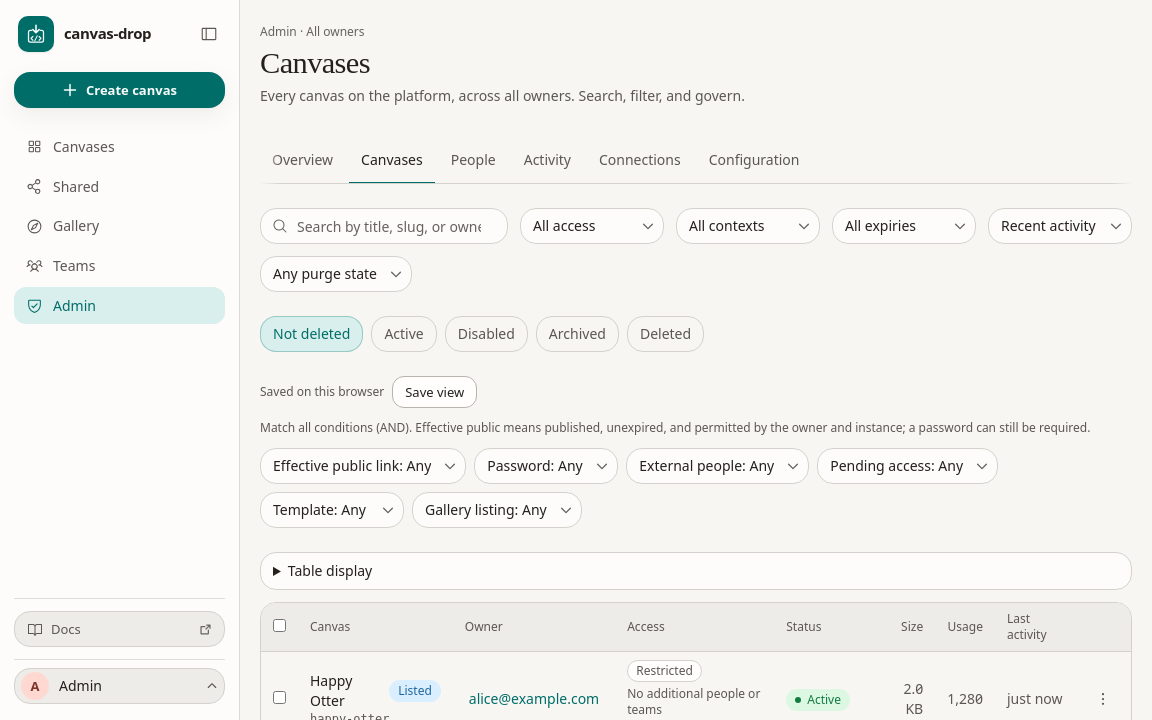
Test: admin dashboard › keeps archive results separate from refreshed eligibility (excluded selection: false)
Click the checkbox named "Select Happy Otter". click: (280, 698)
box: [273, 691, 286, 704]
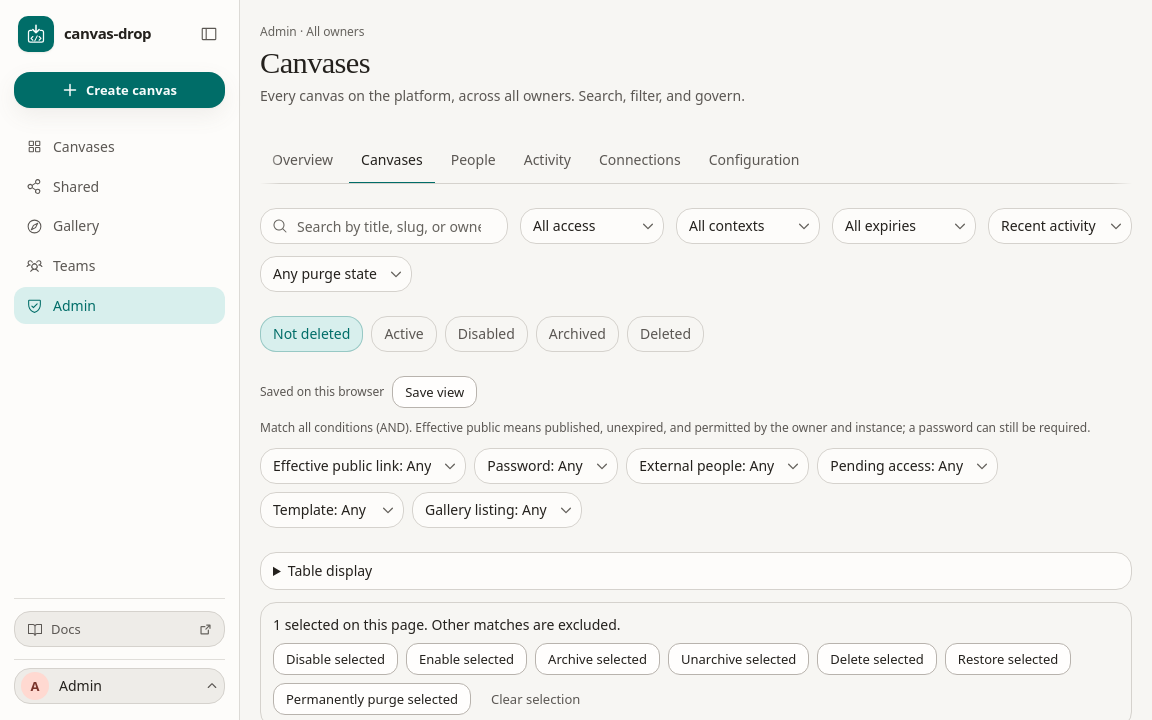
Click the button "Archive selected". click: (598, 659)
box: [535, 643, 660, 675]
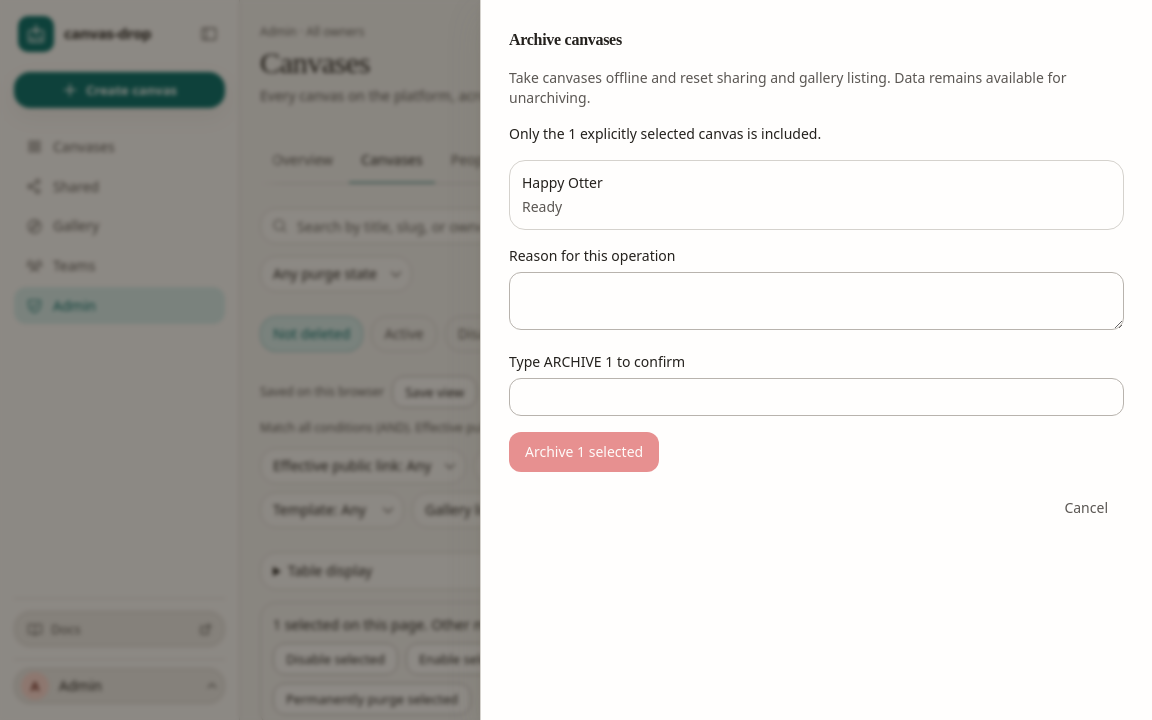
Check: the text "Ready" is shown, box [522, 197, 562, 216]
Type "Retired" into the text box labelled "Reason for this operation". click: (816, 301)
box: [509, 272, 1124, 330]
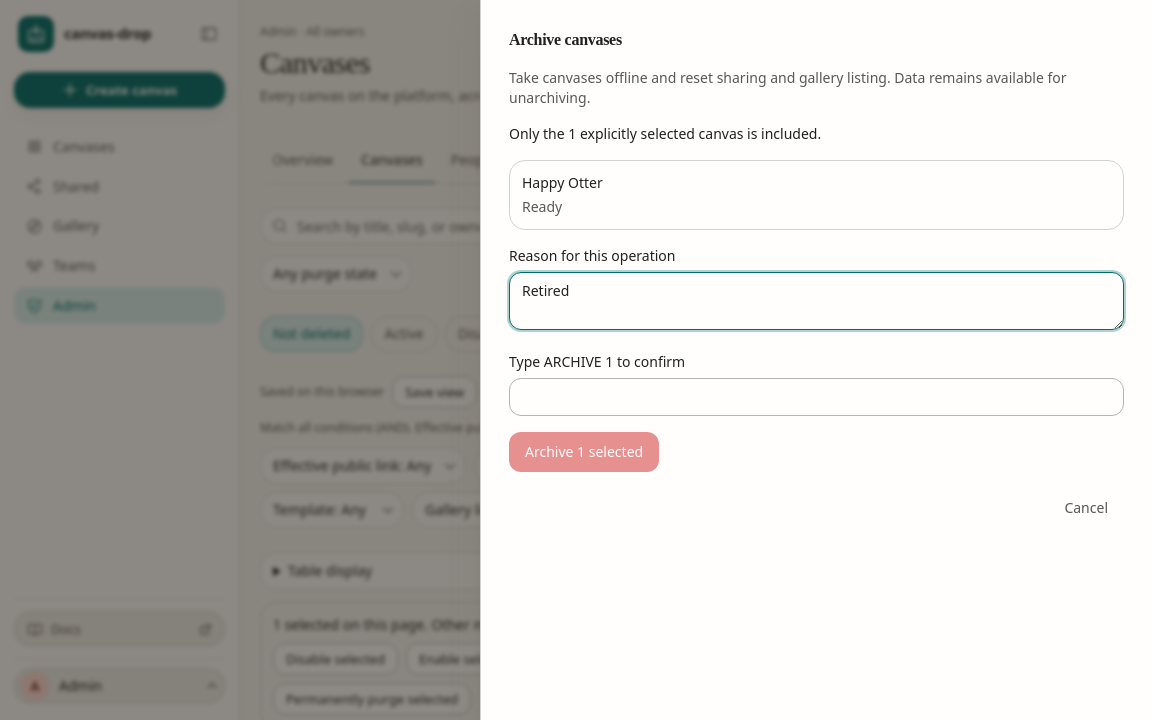
Type "ARCHIVE 1" into the field labelled "Type ARCHIVE 1 to confirm". click: (816, 397)
box: [509, 378, 1124, 416]
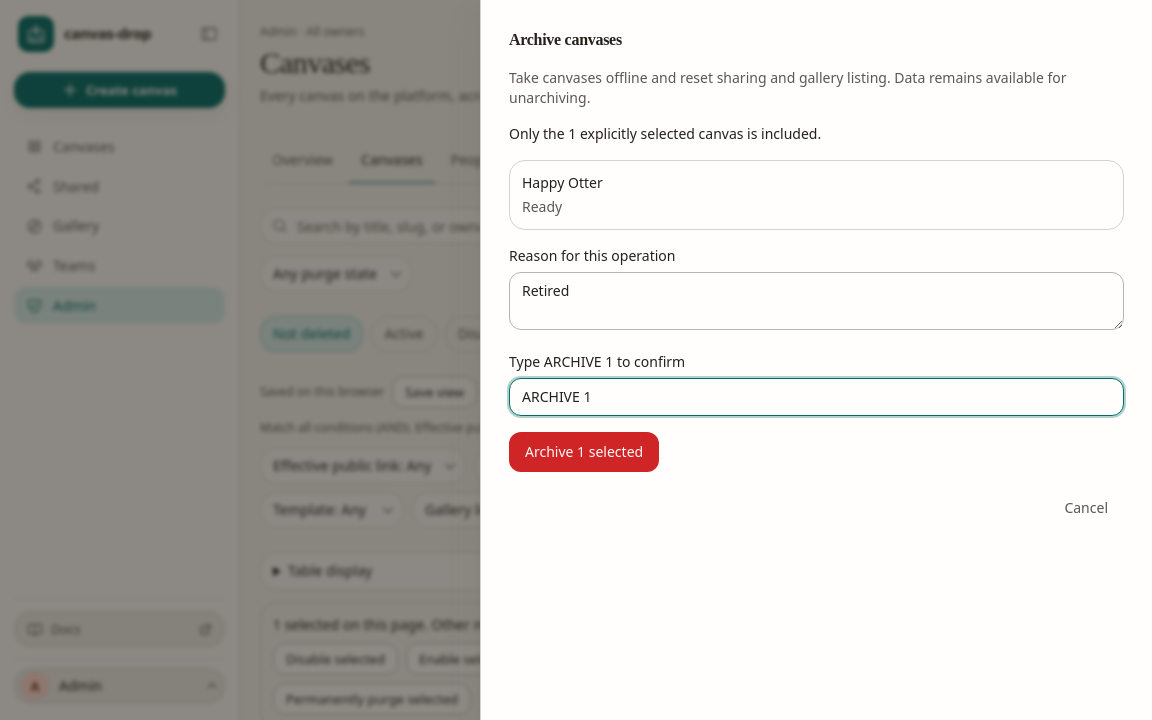
Click the button "Archive 1 selected". click: (584, 452)
box: [509, 432, 659, 472]
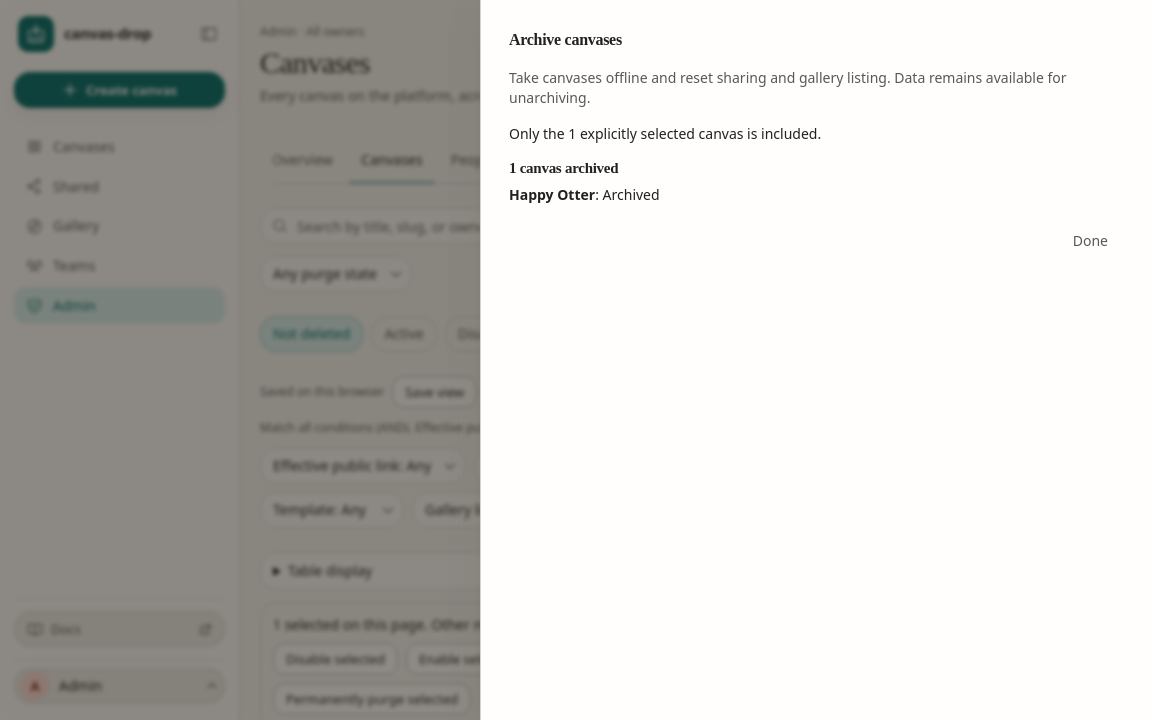
Check: the element named "Operation results" is shown, box [509, 160, 660, 204]
Check: the text "Ready" is gone
Check: the list item "Happy Otter: Archived" is shown, box [509, 185, 660, 204]
Click the button "Done". click: (1090, 241)
box: [1057, 221, 1124, 261]
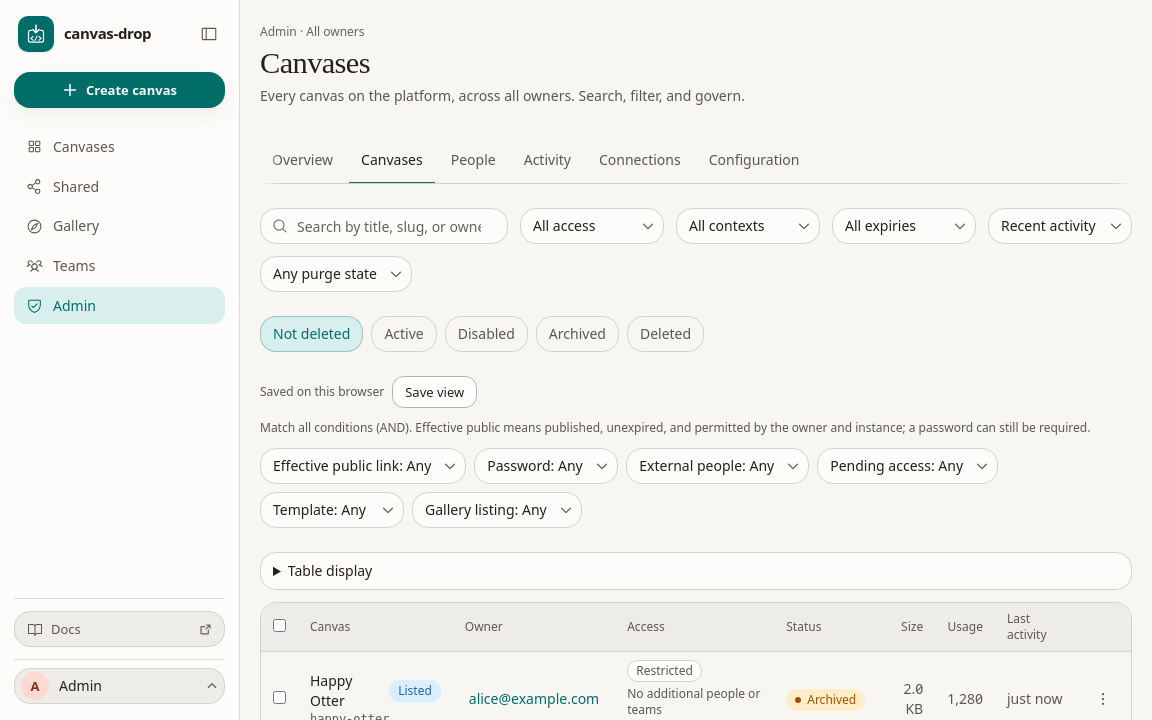
Check: the dialog is gone
